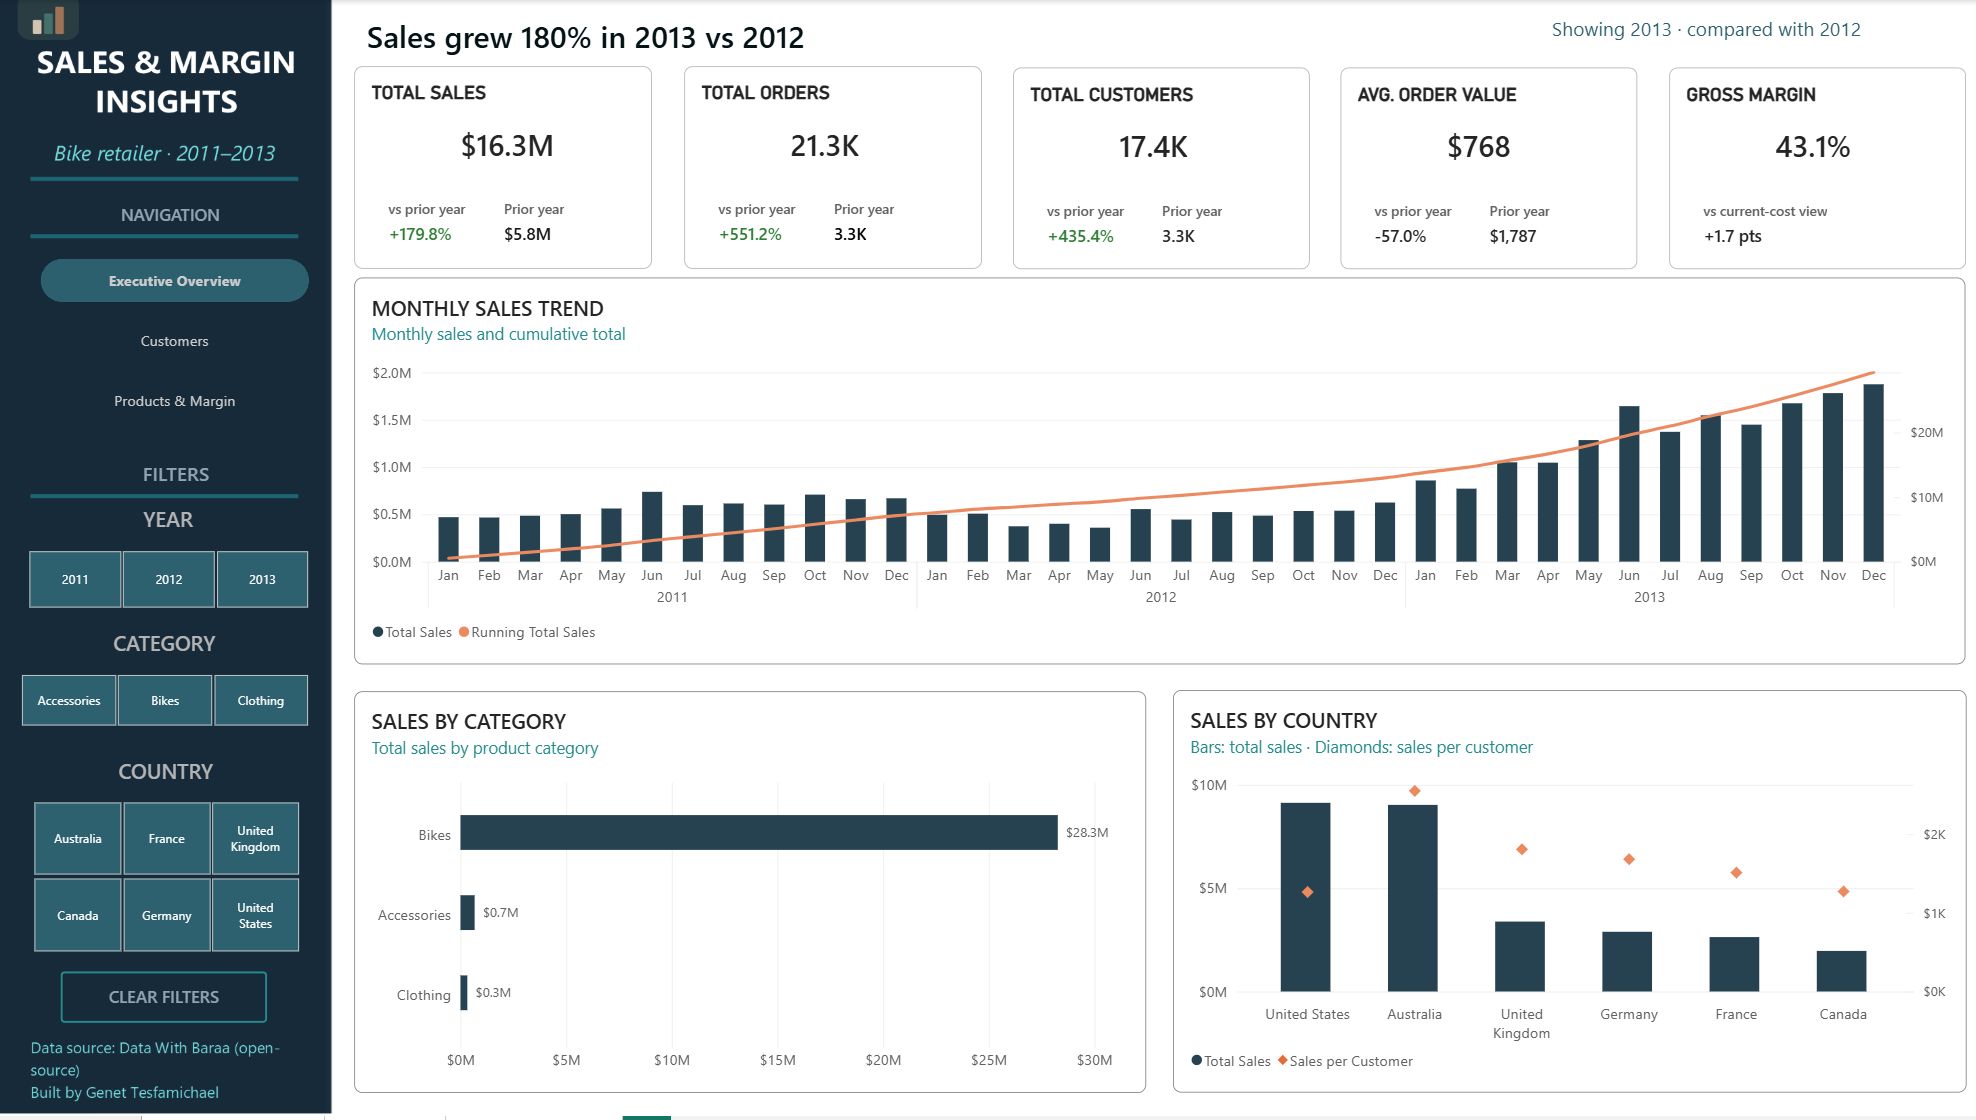

What the dashboard file says about the page in this screenshot:
{"tool":"powerbi","page":{"name":"Executive Overview","canvas":[1920,1080],"ordinal":0},"visuals":[{"type":"lineStackedColumnComboChart","title":"MONTHLY SALES TREND","fields":{"Category":["DateTable.Year","DateTable.Month"],"Y":["_Measures.Total Sales"],"Y2":["_Measures.Running Total Sales"]},"box":[345,268.7,1559.3,374.2],"z":0},{"type":"slicer","title":"YEAR","fields":{"Values":["DateTable.Year"]},"box":[9.8,489.1,309.7,100.9],"z":1000},{"type":"lineClusteredColumnComboChart","title":"SALES BY COUNTRY ","fields":{"Category":["dim_customers.country"],"Y":["_Measures.Total Sales"],"Y2":["_Measures.Sales per Customer"]},"box":[1137.5,668.2,767.6,390],"z":2000},{"type":"cardVisual","title":"TOTAL SALES","fields":{"Data":["_Measures.Sales CY"]},"box":[345.3,64.7,287.7,195.6],"z":3000},{"type":"cardVisual","title":"TOTAL CUSTOMERS","fields":{"Data":["customer_rfm.Customers CY"]},"box":[982.2,65.3,286.8,195],"z":4000},{"type":"cardVisual","title":"AVG. ORDER VALUE","fields":{"Data":["customer_rfm.AOV CY"]},"box":[1299.8,65.3,286.8,195],"z":5000},{"type":"cardVisual","title":"GROSS MARGIN","fields":{"Data":["_Measures.Gross Margin % CY"]},"box":[1617.3,65.3,286.8,195],"z":6000},{"type":"barChart","title":"SALES BY CATEGORY","fields":{"Category":["dim_products.category"],"Y":["_Measures.Total Sales"]},"box":[345,669.2,766,389],"z":7000},{"type":"textbox","box":[22.4,196.2,287.5,25.3],"z":8000},{"type":"pageNavigator","box":[40.6,250.9,260,160],"z":9000},{"type":"actionButton","box":[1401.5,3,503,50],"z":10000},{"type":"actionButton","box":[345.3,3.8,750,61.4],"z":11000},{"type":"slicer","title":"CATEGORY","fields":{"Values":["dim_products.category"]},"box":[2.8,608.2,316.7,95.3],"z":12000},{"type":"textbox","box":[41.8,435.7,260,40],"z":13000},{"type":"slicer","title":"COUNTRY","fields":{"Values":["dim_customers.Country"]},"box":[14,731.6,295.7,190.6],"z":14000},{"type":"cardVisual","title":"TOTAL ORDERS","fields":{"Data":["customer_rfm.Orders CY"]},"box":[663.7,64.7,287.7,195.6],"z":15000},{"type":"actionButton","box":[60.7,939.8,200,50],"z":16001}]}

Visuals, with their boxes in screenshot pixels (x1, y1, x2, y2), scaled from the page's 1920x1080 canvas onto the 1976x1120 screenshot:
"MONTHLY SALES TREND" lineStackedColumnComboChart: x1=355, y1=279, x2=1960, y2=667
"YEAR" slicer: x1=10, y1=507, x2=329, y2=612
"SALES BY COUNTRY " lineClusteredColumnComboChart: x1=1171, y1=693, x2=1961, y2=1097
"TOTAL SALES" cardVisual: x1=355, y1=67, x2=651, y2=270
"TOTAL CUSTOMERS" cardVisual: x1=1011, y1=68, x2=1306, y2=270
"AVG. ORDER VALUE" cardVisual: x1=1338, y1=68, x2=1633, y2=270
"GROSS MARGIN" cardVisual: x1=1664, y1=68, x2=1960, y2=270
"SALES BY CATEGORY" barChart: x1=355, y1=694, x2=1143, y2=1097
textbox: x1=23, y1=203, x2=319, y2=230
pageNavigator: x1=42, y1=260, x2=309, y2=426
actionButton: x1=1442, y1=3, x2=1960, y2=55
actionButton: x1=355, y1=4, x2=1127, y2=68
"CATEGORY" slicer: x1=3, y1=631, x2=329, y2=730
textbox: x1=43, y1=452, x2=311, y2=493
"COUNTRY" slicer: x1=14, y1=759, x2=319, y2=956
"TOTAL ORDERS" cardVisual: x1=683, y1=67, x2=979, y2=270
actionButton: x1=62, y1=975, x2=268, y2=1026
